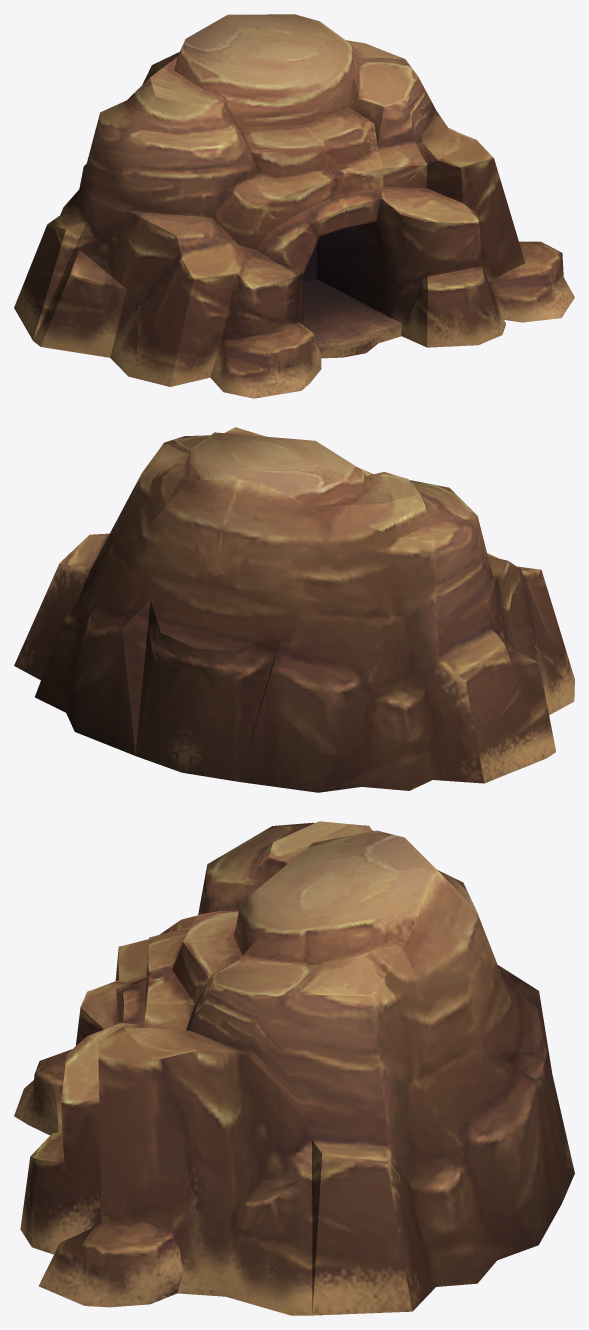
File: shandong01.FBX
3 views of the same model, one above another, from view 1: azimuth 30°, elevation 25°; view 2: azimuth 150°, elevation 25°; view 3: azimuth 270°, elevation 25° (orthographic). The views are drawn at different scales.
Parts seen in each view (by area): view 1: shandong01; view 2: shandong01; view 3: shandong01.
Boxes of the visible parts, x1,y1,x2,y2 form: shandong01: (14,14,574,398); shandong01: (14,427,574,792); shandong01: (14,821,574,1315).
Size of the model in its own units: 461 by 221 by 371.
